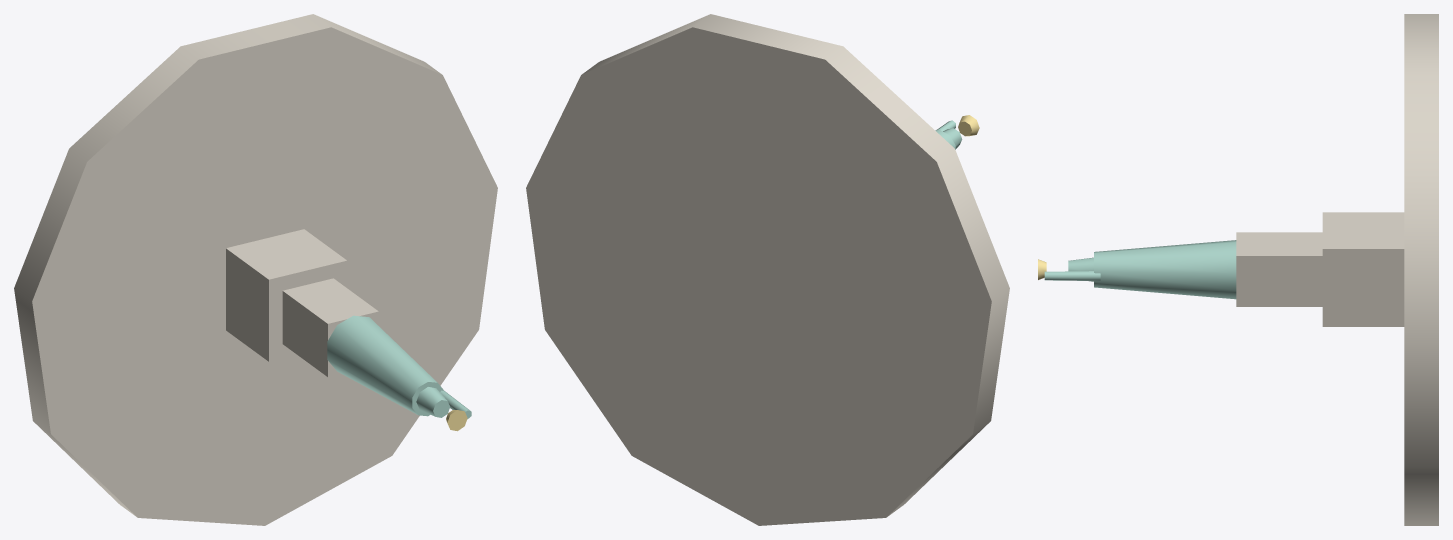
The model's file is liberty.glb.
The picture shows the model from 3 angles, left to right: view 1: azimuth 30°, elevation 25°; view 2: azimuth 150°, elevation 25°; view 3: azimuth 270°, elevation 25°; orthographic projection. The views are drawn at different scales.
Size of the model in its own units: 119 by 118 by 93.
